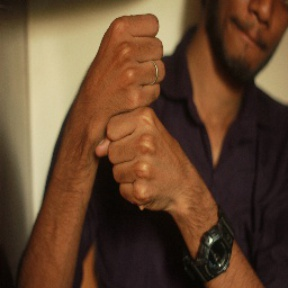G: (77, 12, 189, 214)
